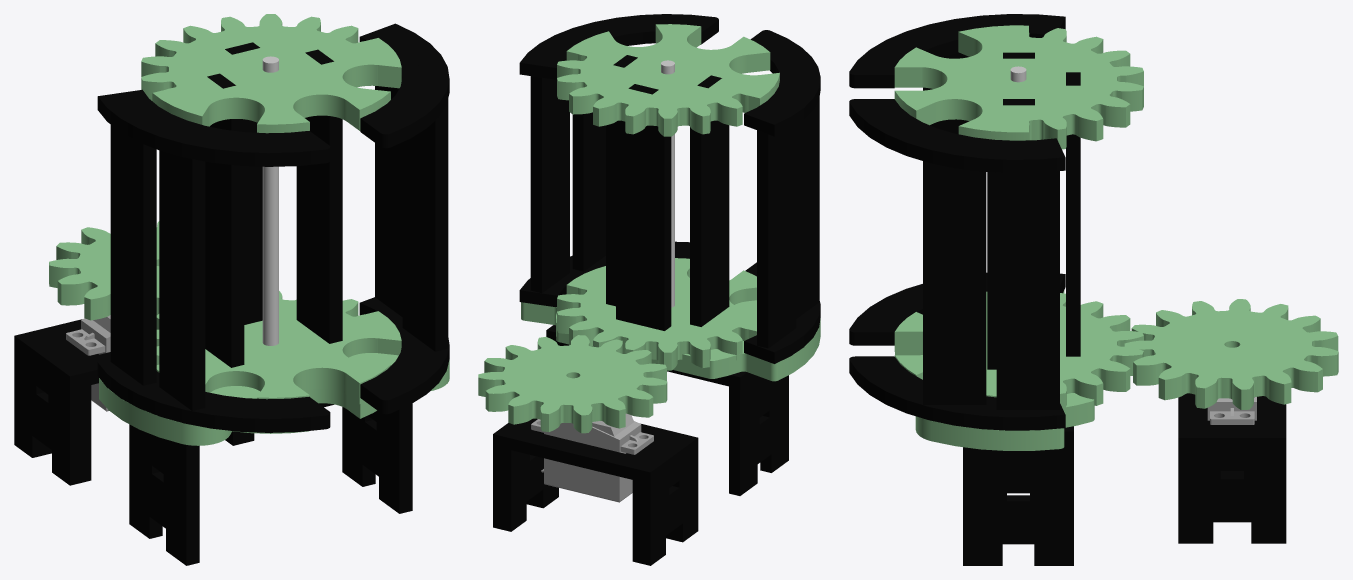
The model's file is RingAssembly.glb.
The picture shows the model from 3 angles, left to right: view 1: azimuth 30°, elevation 25°; view 2: azimuth 150°, elevation 25°; view 3: azimuth 270°, elevation 25°; orthographic projection. The views are drawn at different scales.
Size of the model in its own units: 0.1385 by 0.1958 by 0.1962.
